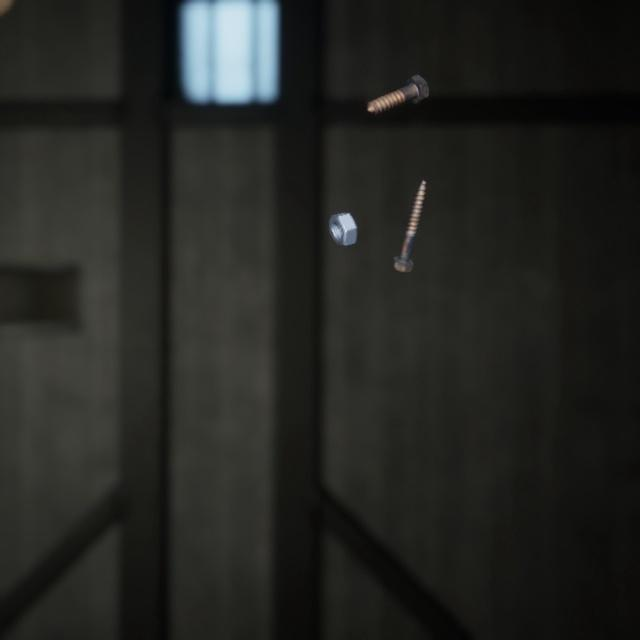bolt: (386, 161, 430, 262), (362, 59, 433, 108)
nut: (326, 193, 363, 234)
